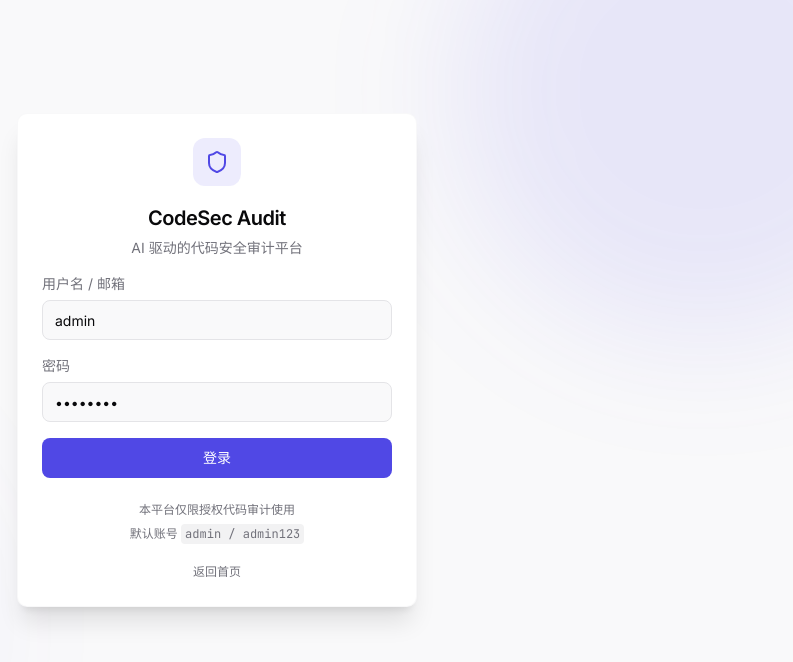
Test case: LoginPage › 登录失败显示错误
Click the button with test id "login-submit".
click(217, 458)  # box [42,438,392,478]
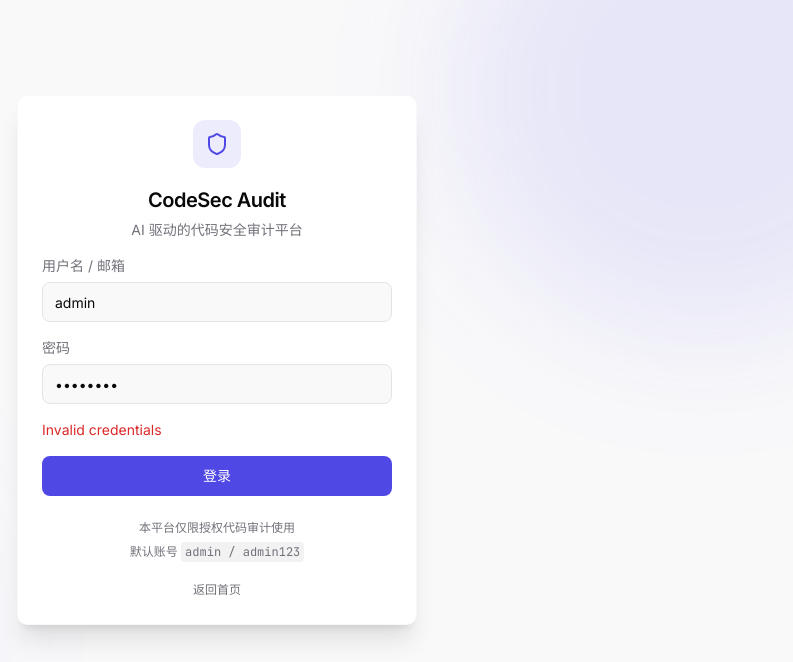
Expected: the message reads "Invalid credentials", [42,421,162,438]
